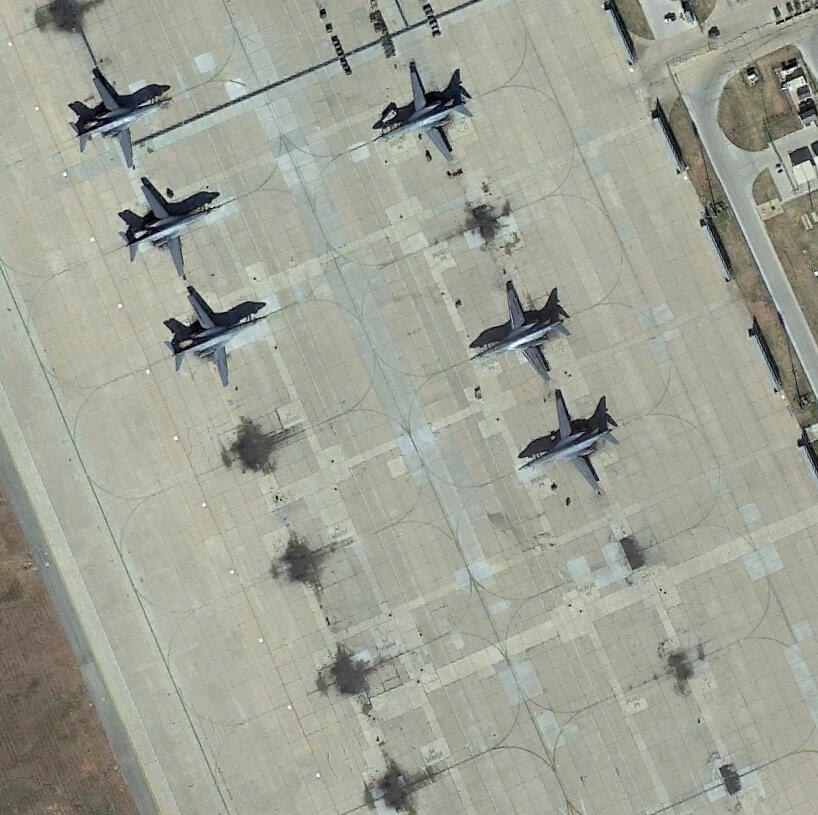A10: (158, 284, 275, 390), (372, 59, 478, 166), (518, 388, 623, 495), (466, 280, 574, 384), (115, 179, 224, 278), (69, 68, 173, 171)
